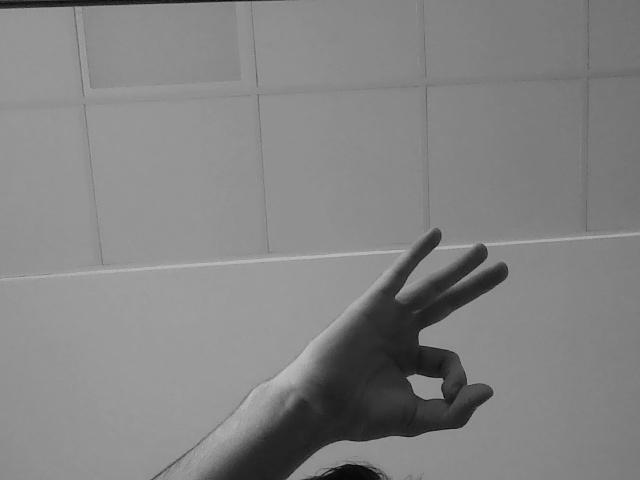OK: (347, 236, 516, 418)
